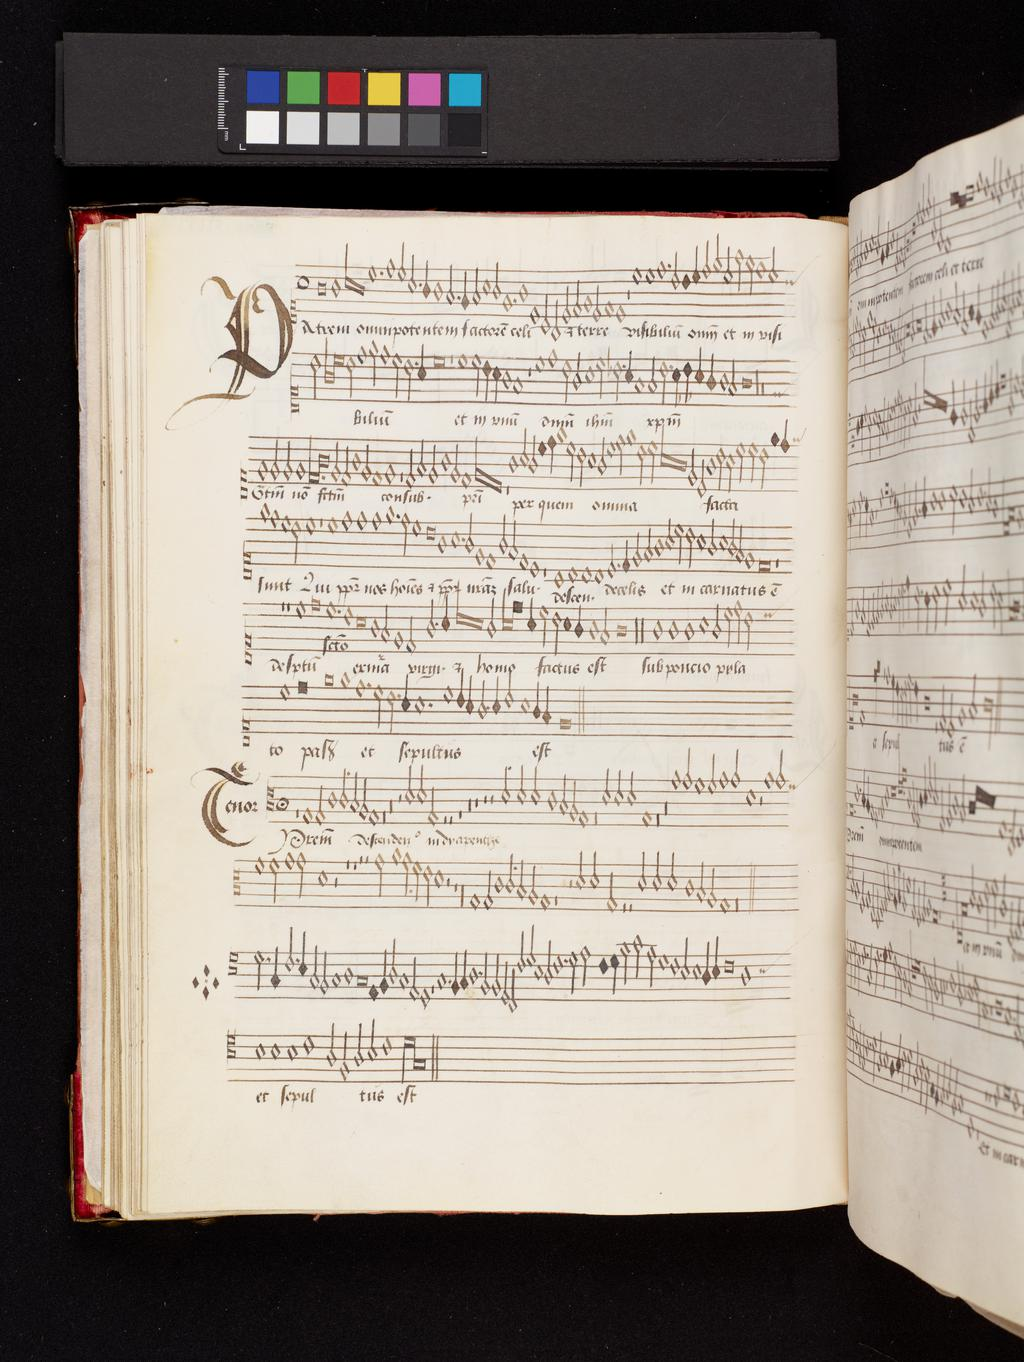Pmaj: (275, 789, 293, 815)
breve rest: (660, 769, 671, 834), (591, 767, 601, 826), (378, 769, 387, 832), (464, 766, 473, 828), (386, 770, 396, 831), (653, 774, 662, 832)
c clef_7: (264, 778, 278, 819)
custos_4: (787, 771, 815, 801)
minim rest: (480, 768, 490, 828), (487, 769, 497, 829), (396, 765, 404, 828), (757, 774, 766, 833), (449, 765, 455, 824), (442, 766, 447, 825)
minim_10: (426, 777, 441, 829), (314, 778, 327, 828)
minim_3: (773, 747, 787, 794), (730, 744, 743, 792), (681, 746, 694, 792)
minim_4: (707, 750, 719, 799)
minim_6: (514, 760, 529, 809), (528, 761, 543, 809), (402, 761, 416, 810), (415, 760, 429, 808), (611, 761, 625, 809), (599, 761, 612, 810), (498, 760, 510, 808), (625, 766, 639, 807)
minim_7: (340, 762, 350, 812)
minim_8: (349, 769, 362, 818), (557, 769, 569, 818)
minim_9: (568, 772, 580, 826), (358, 774, 370, 822)
point: (342, 767, 353, 781)
semibreve rest: (291, 770, 302, 831), (455, 768, 464, 829), (471, 768, 480, 826)
semibreve_10: (577, 801, 592, 832), (366, 801, 381, 831), (301, 801, 315, 829), (637, 803, 655, 820)
semibreve_3: (668, 764, 683, 795), (762, 765, 776, 791), (719, 766, 731, 791)
semibreve_4: (692, 771, 707, 800)
semibreve_6: (743, 782, 759, 813)
semibreve_7: (544, 782, 560, 815), (326, 786, 340, 812)
